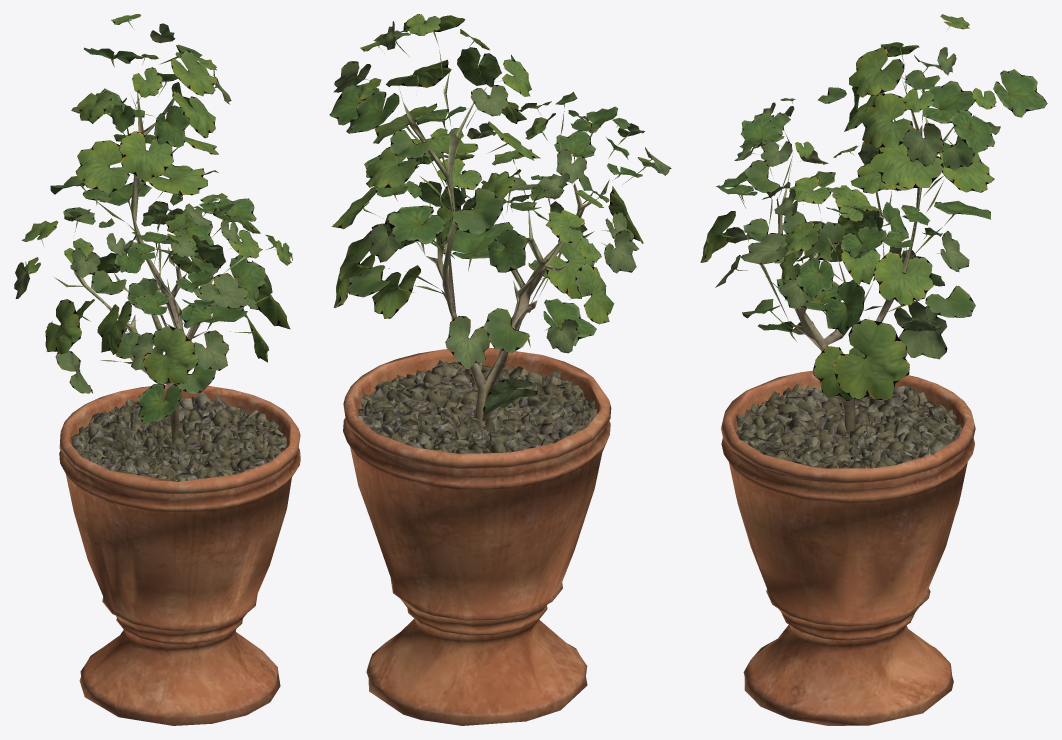
File: potted_plant_01.glb
The picture shows the model from 3 angles, left to right: view 1: azimuth 30°, elevation 25°; view 2: azimuth 150°, elevation 25°; view 3: azimuth 270°, elevation 25°; orthographic projection. The views are drawn at different scales.
Parts seen in each view (by area): view 1: potted_plant_01_stem, potted_plant_01_leaves; view 2: potted_plant_01_stem, potted_plant_01_leaves; view 3: potted_plant_01_stem, potted_plant_01_leaves.
Part boxes in pixels (x1,y1,x2,y2): potted_plant_01_stem: (54, 91, 300, 725); potted_plant_01_leaves: (14, 14, 292, 423); potted_plant_01_stem: (343, 72, 611, 725); potted_plant_01_leaves: (329, 14, 671, 414); potted_plant_01_stem: (721, 81, 975, 725); potted_plant_01_leaves: (700, 14, 1047, 400).
Size of the model in its own units: 0.5866 by 1.34 by 0.6336.
Materials: 2 (2 with a texture image).
